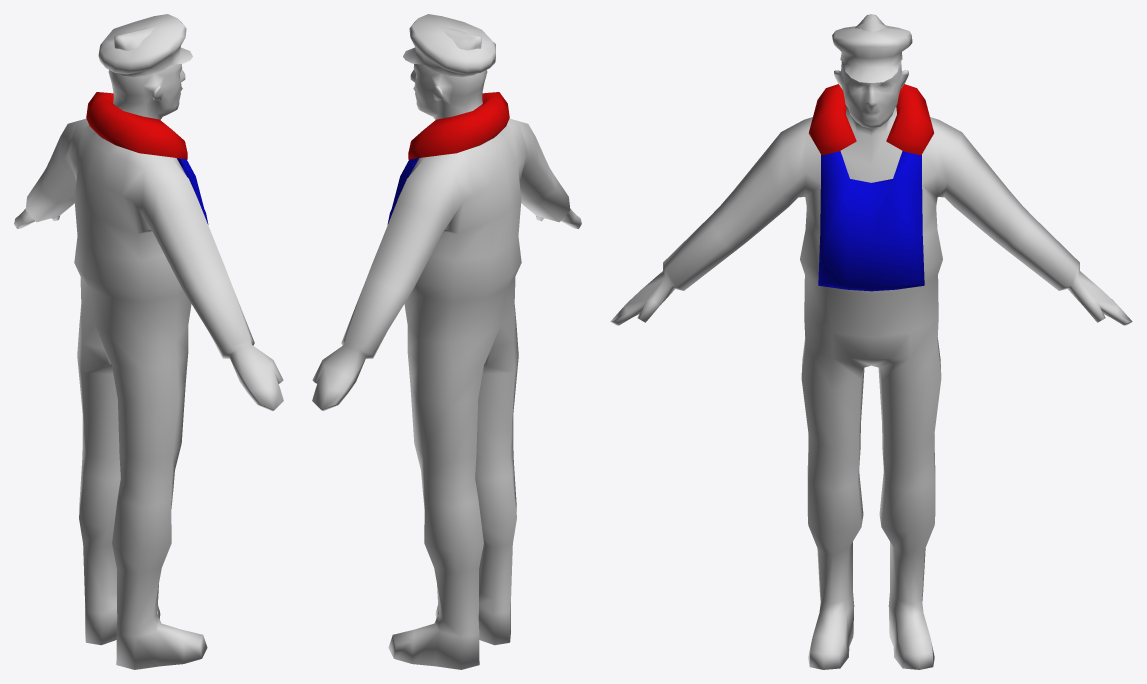
File: pilot02.fbx
The picture shows the model from 3 angles, left to right: view 1: azimuth 30°, elevation 25°; view 2: azimuth 150°, elevation 25°; view 3: azimuth 270°, elevation 25°; orthographic projection. The views are drawn at different scales.
Visible parts, largest first — view 1: pilot02, lpcap2.002, neck.003, lpgarrisoncap.002, lifevest.003; view 2: pilot02, lpcap2.002, neck.003, lpgarrisoncap.002, lifevest.003; view 3: pilot02, lifevest.003, neck.003, lpcap2.002.
Boxes of the visible parts, left/top/right/bottom form: pilot02: left=14, top=64, right=283, bottom=669; lpcap2.002: left=98, top=14, right=192, bottom=77; neck.003: left=86, top=92, right=187, bottom=159; lpgarrisoncap.002: left=114, top=26, right=156, bottom=50; lifevest.003: left=177, top=158, right=208, bottom=224; pilot02: left=312, top=64, right=581, bottom=669; lpcap2.002: left=403, top=14, right=495, bottom=77; neck.003: left=408, top=92, right=509, bottom=159; lpgarrisoncap.002: left=439, top=26, right=481, bottom=50; lifevest.003: left=387, top=158, right=418, bottom=224; pilot02: left=610, top=61, right=1132, bottom=669; lifevest.003: left=818, top=151, right=924, bottom=291; neck.003: left=809, top=84, right=933, bottom=155; lpcap2.002: left=832, top=25, right=912, bottom=82.
Bounding box in the file's own units: 0.3417 × 1.79 × 1.35.
